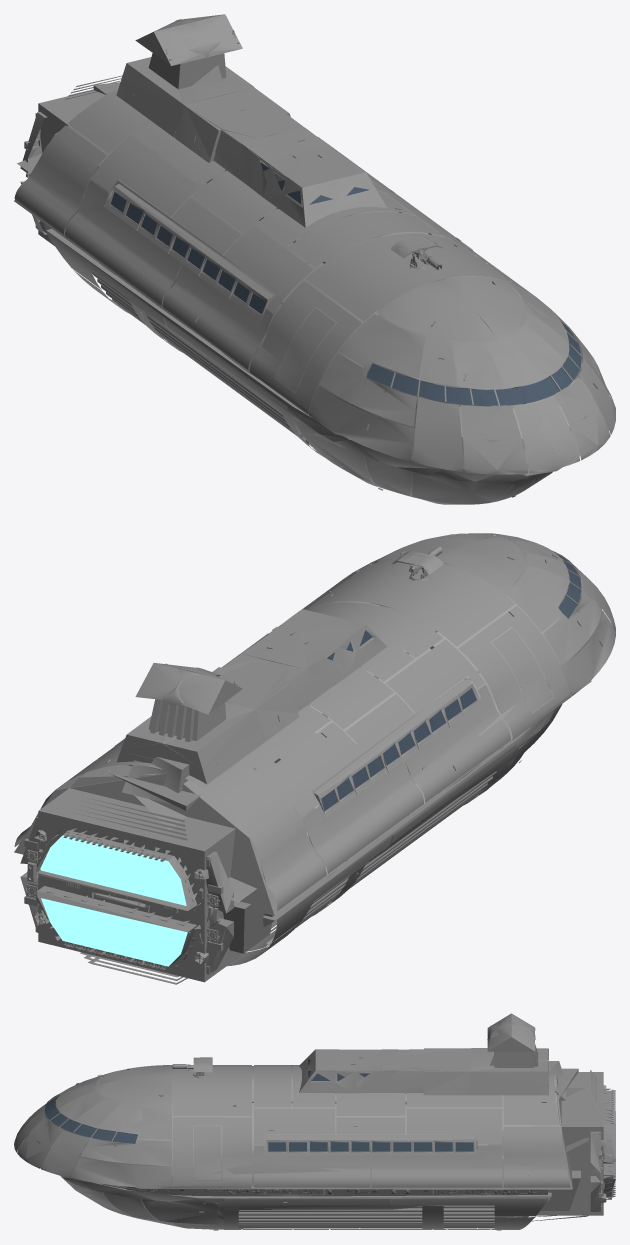
The model's file is sw_republic_transport.glb.
3 views of the same model, one above another, from view 1: azimuth 30°, elevation 25°; view 2: azimuth 150°, elevation 25°; view 3: azimuth 270°, elevation 25° (orthographic). The views are drawn at different scales.
Visible parts, largest first — view 1: Republic Transport_Metal_0, Republic Transport_DarkWindow_0, Republic Transport_PolishedMetal_0, Laser turret_Metal_0, Greebles_Metal_0; view 2: Republic Transport_Metal_0, Republic Transport_BlueEngineGlow_0, Greebles_Metal_0, Republic Transport_PolishedMetal_0, Republic Transport_DarkWindow_0, Laser turret_Metal_0; view 3: Republic Transport_Metal_0, Republic Transport_DarkWindow_0, Republic Transport_PolishedMetal_0, Republic Transport_MetalDark_0, Greebles_MetalDark_0 (×2), Greebles_Metal_0, Laser turret_Metal_0.
Boxes of the visible parts, <box> form: Republic Transport_Metal_0: <box>14,14,615,504</box>; Republic Transport_DarkWindow_0: <box>110,162,581,406</box>; Republic Transport_PolishedMetal_0: <box>64,149,592,438</box>; Laser turret_Metal_0: <box>391,235,443,270</box>; Greebles_Metal_0: <box>20,30,239,234</box>; Republic Transport_Metal_0: <box>14,533,615,984</box>; Republic Transport_BlueEngineGlow_0: <box>40,835,187,966</box>; Greebles_Metal_0: <box>20,663,239,974</box>; Republic Transport_PolishedMetal_0: <box>70,572,591,874</box>; Republic Transport_DarkWindow_0: <box>321,554,581,811</box>; Laser turret_Metal_0: <box>391,546,443,574</box>; Republic Transport_Metal_0: <box>14,1013,615,1230</box>; Republic Transport_DarkWindow_0: <box>44,1059,473,1151</box>; Republic Transport_PolishedMetal_0: <box>30,1066,560,1188</box>; Republic Transport_MetalDark_0: <box>100,1183,547,1196</box>; Greebles_MetalDark_0 (×2): <box>109,1185,548,1195</box>; Greebles_Metal_0: <box>490,1022,606,1211</box>; Laser turret_Metal_0: <box>172,1057,212,1072</box>.
Size of the model in its own units: 0.6622 by 0.6983 by 1.94.
